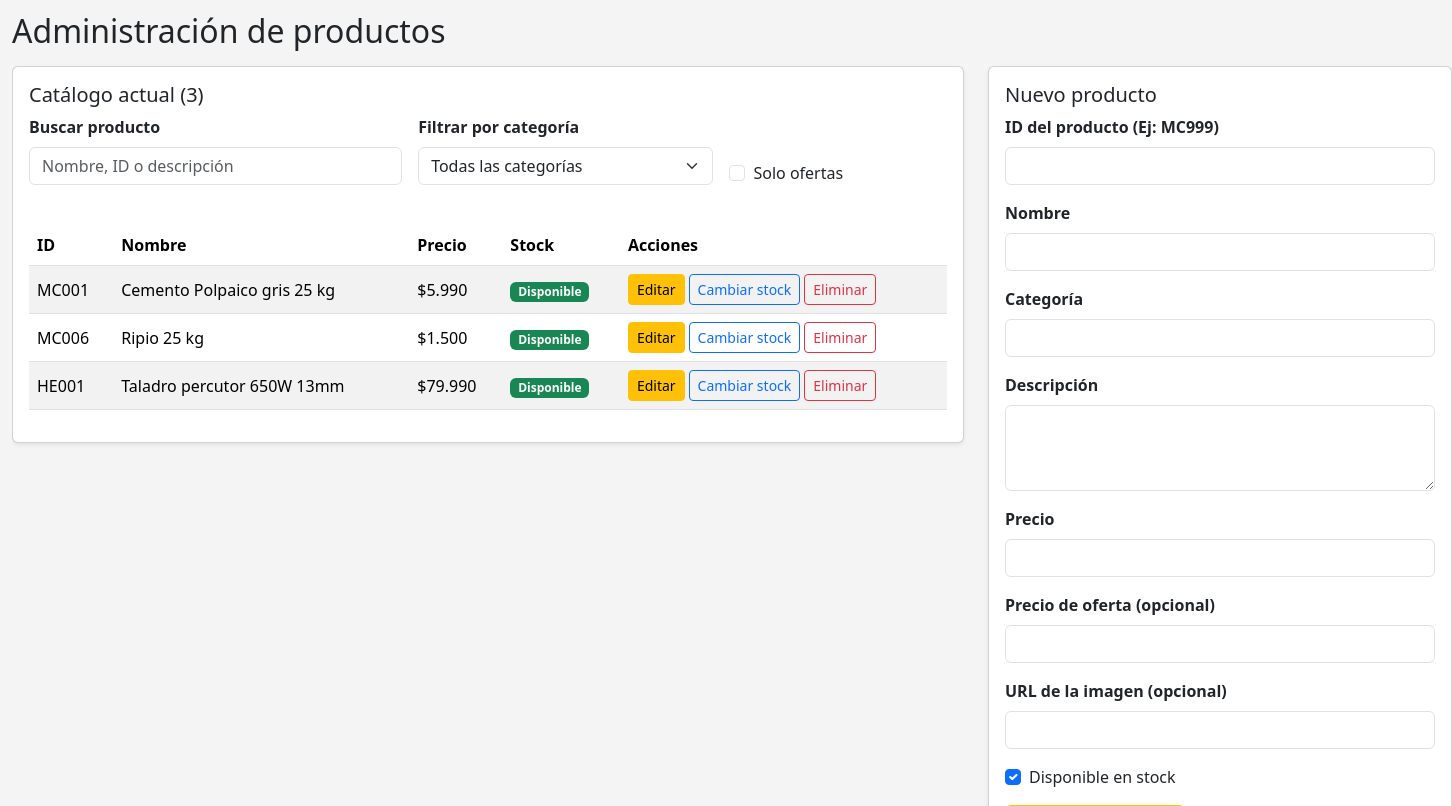
Test: AdminProductos › READ buscador
Type "Ripio" into the field labelled "Buscar producto" at (216, 166), box [29,147,402,185]
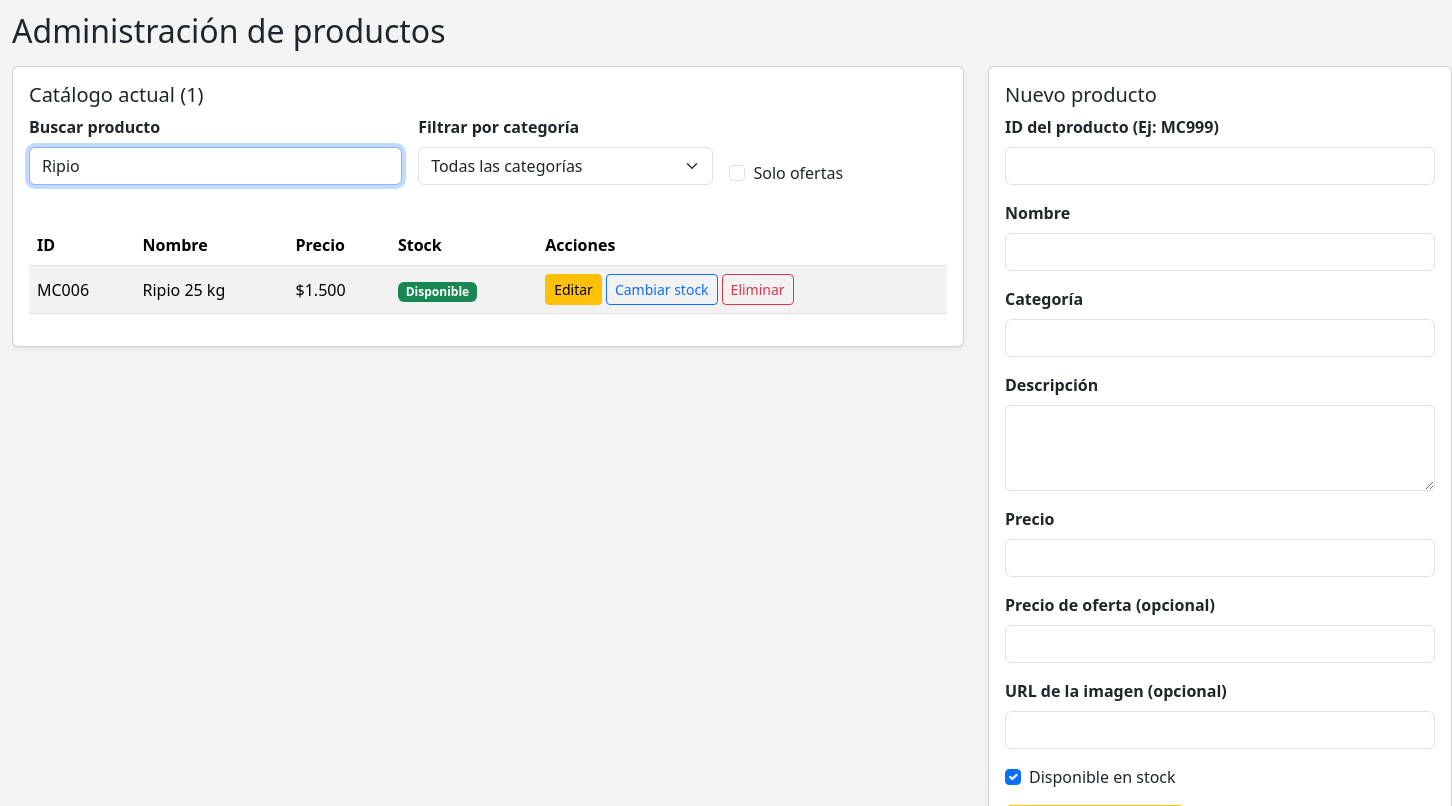
Expected: the text "MC006" is shown, [29,266,134,314]
Now the number of rows is 2, box [29,225,947,266]; [29,266,947,314]
